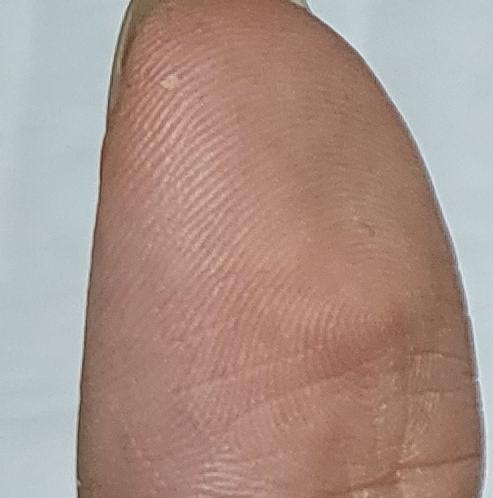Fingerprints: (77, 0, 486, 496)
